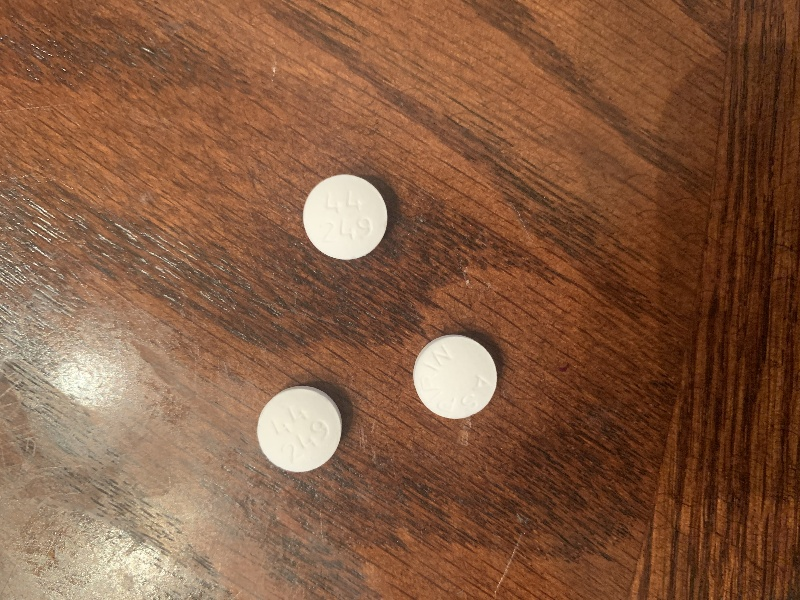Aspirin: (254, 379, 347, 479), (408, 331, 501, 425), (299, 173, 394, 265)
